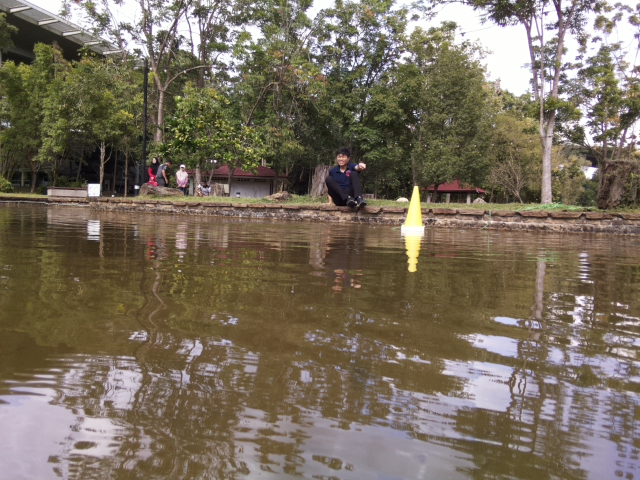checkpoint: (400, 184, 428, 235)
